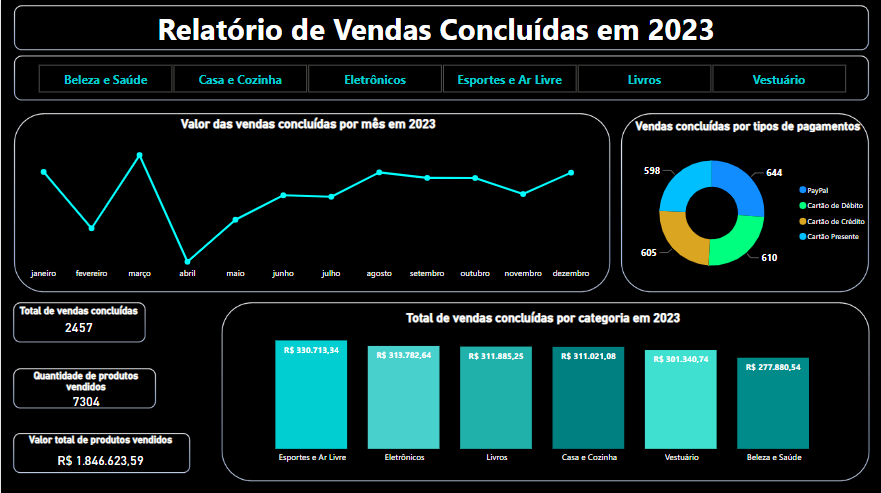

The page's visual inventory and layout, read from the dashboard file:
{"tool":"powerbi","page":{"name":"Vendas_Concluídas_2023","canvas":[1280,720],"ordinal":0},"visuals":[{"type":"textbox","box":[29.7,7.1,1208,67.9],"z":0},{"type":"card","title":"Total de vendas concluídas","fields":{"Values":["Count(Vendas_Concluídas.ID do Produto)"]},"box":[19.3,443.1,188.1,50.2],"z":1000},{"type":"card","title":"Quantidade de produtos vendidos","fields":{"Values":["Sum(Vendas_Concluídas.Quantidade)"]},"box":[17,537.5,212.2,59.4],"z":2000},{"type":"card","title":"Valor total de produtos vendidos","fields":{"Values":["Sum(Vendas_Concluídas.Preço Total)"]},"box":[15.5,631.1,257.6,61.8],"z":3000},{"type":"columnChart","title":"Total de vendas concluídas por categoria em 2023","fields":{"Category":["Vendas_Concluídas.Categoria do Produto"],"Y":["Sum(Vendas_Concluídas.Preço Total)"]},"box":[340.9,451.2,896.8,232],"z":4000},{"type":"donutChart","title":"Vendas concluídas por tipos de pagamentos","fields":{"Category":["Vendas_Concluídas.Tipo de Pagamento"],"Y":["CountNonNull(Vendas_Concluídas.ID do Pedido)"]},"box":[902.5,172.6,369.2,254.6],"z":5000},{"type":"lineChart","title":"Valor das vendas concluídas por mês em 2023","fields":{"Category":["Vendas_Concluídas.Data do Pedido.Variation.Hierarquia de datas.Mês"],"Y":["Sum(Vendas_Concluídas.Preço Total)"]},"box":[29.7,168.3,836,246.1],"z":6000},{"type":"slicer","fields":{"Values":["Vendas_Concluídas.Categoria do Produto"]},"box":[29.6,87.6,1223.6,54.1],"z":7000}]}

Visuals, with their boxes in screenshot pixels (x1, y1, x2, y2), scaled from the page's 1280x720 canvas onto the 881x493 screenshot:
textbox: (left=20, top=5, right=852, bottom=51)
"Total de vendas concluídas" card: (left=13, top=303, right=143, bottom=338)
"Quantidade de produtos vendidos" card: (left=12, top=368, right=158, bottom=409)
"Valor total de produtos vendidos" card: (left=11, top=432, right=188, bottom=474)
"Total de vendas concluídas por categoria em 2023" columnChart: (left=235, top=309, right=852, bottom=468)
"Vendas concluídas por tipos de pagamentos" donutChart: (left=621, top=118, right=875, bottom=293)
"Valor das vendas concluídas por mês em 2023" lineChart: (left=20, top=115, right=596, bottom=284)
slicer - Vendas_Concluídas.Categoria do Produto: (left=20, top=60, right=863, bottom=97)
